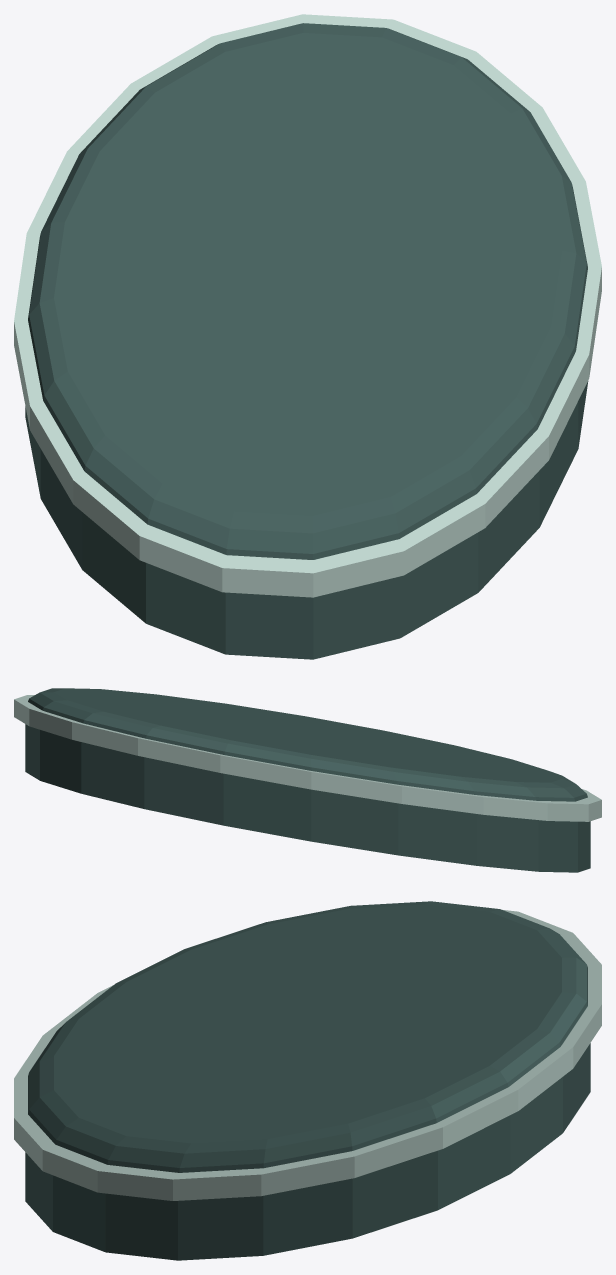
The model's file is Plate_LatchBase.gltf.
The picture shows the model from 3 angles, top to bottom: view 1: azimuth 30°, elevation 25°; view 2: azimuth 150°, elevation 25°; view 3: azimuth 270°, elevation 25°; orthographic projection. The views are drawn at different scales.
Parts seen in each view (by area): view 1: Plate_LatchBase_baked; view 2: Plate_LatchBase_baked; view 3: Plate_LatchBase_baked.
Part boxes in pixels (box(x1,y1,x2,y2)): Plate_LatchBase_baked: box(14, 14, 601, 659); Plate_LatchBase_baked: box(14, 688, 601, 872); Plate_LatchBase_baked: box(14, 901, 601, 1260).
Bounding box in the file's own units: 0.6693 × 0.347 × 0.6163.
